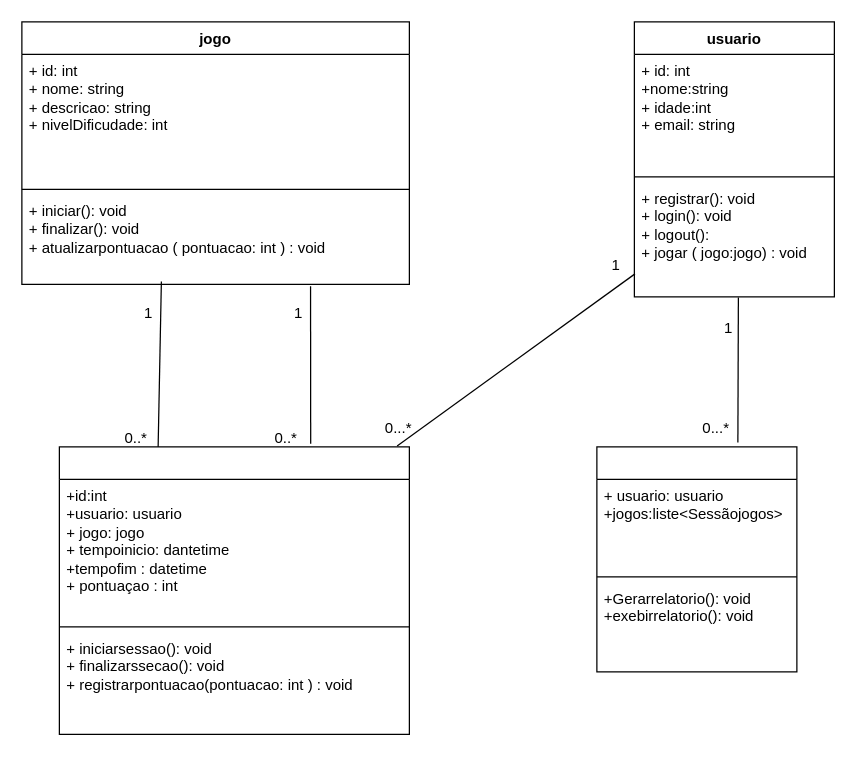
Some shapes in this 856 by 760 pixel diagram are drawn without their labels. The box of each missing label's shape, as (x1, y1, x2, y2) in pixels:
relatorioDesempenho: (596, 446, 797, 672)
sessaojogos: (58, 446, 409, 734)
